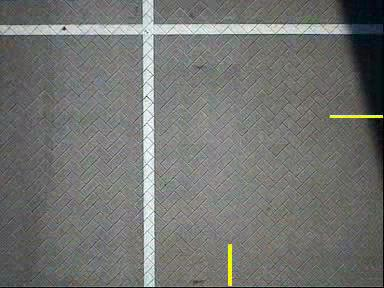groundmarker_2: (132, 95, 198, 143), (131, 227, 197, 275)
